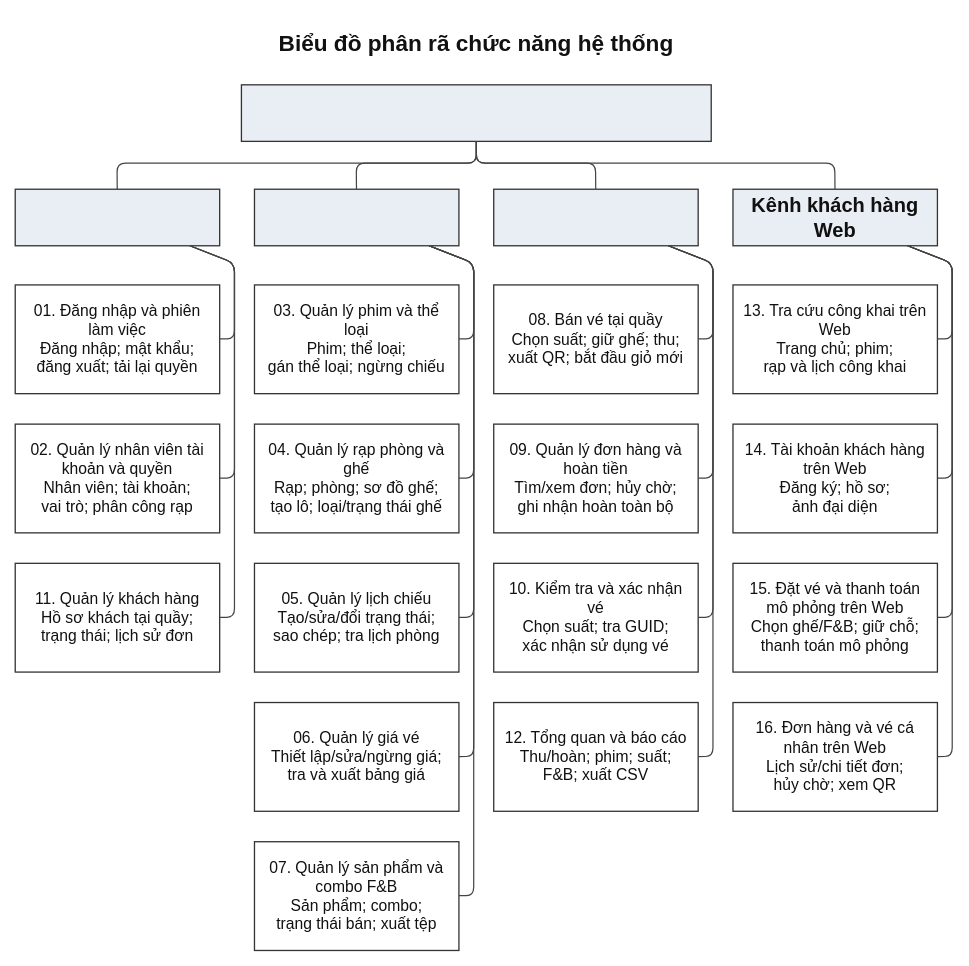
Some shapes in this 969 by 966 pixel diagram are drawn without their labels. Each missing label, with the centre of its shape:
"Danh mục và lịch" goes at pixel 356 217.
"HỆ THỐNG YEUMINHEM CINEMA" goes at pixel 475 113.
"Nghiệp vụ tại rạp" goes at pixel 595 217.
"Tài khoản và hồ sơ" goes at pixel 117 217.
